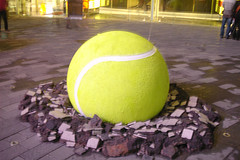tennis ball: (66, 29, 172, 126)
